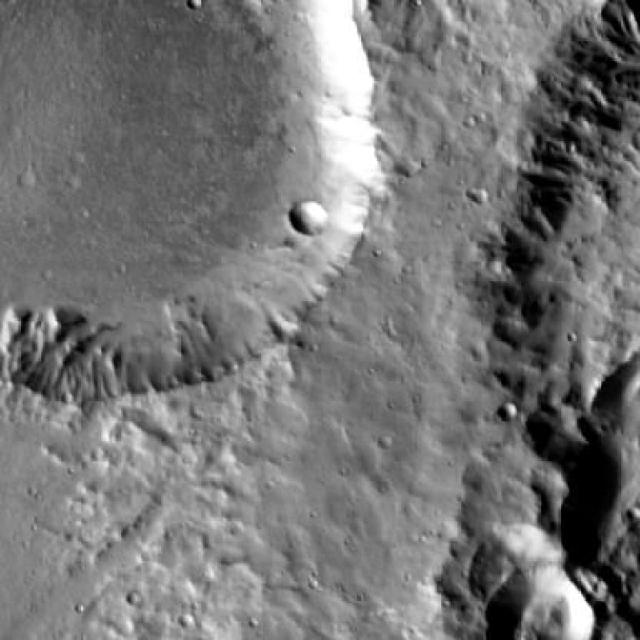crater: (0, 0, 408, 394), (468, 522, 566, 613), (488, 566, 597, 640), (533, 398, 607, 465), (289, 197, 329, 235), (500, 405, 518, 423), (16, 170, 33, 187)
